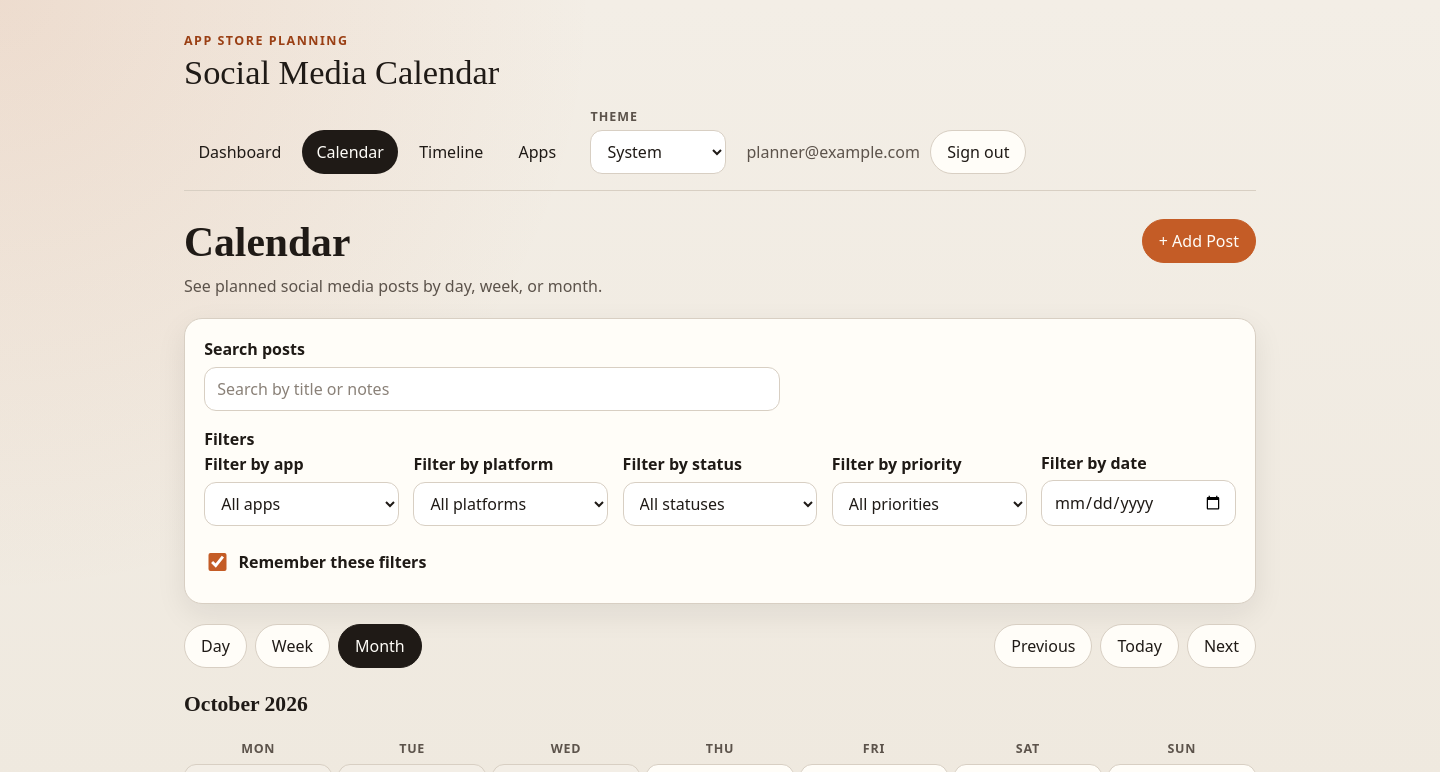
Test: B-004 add and edit post › opens the Add Post form from the Calendar page
Click the button "+ Add Post" at (1199, 242), box [1142,220,1256,264]
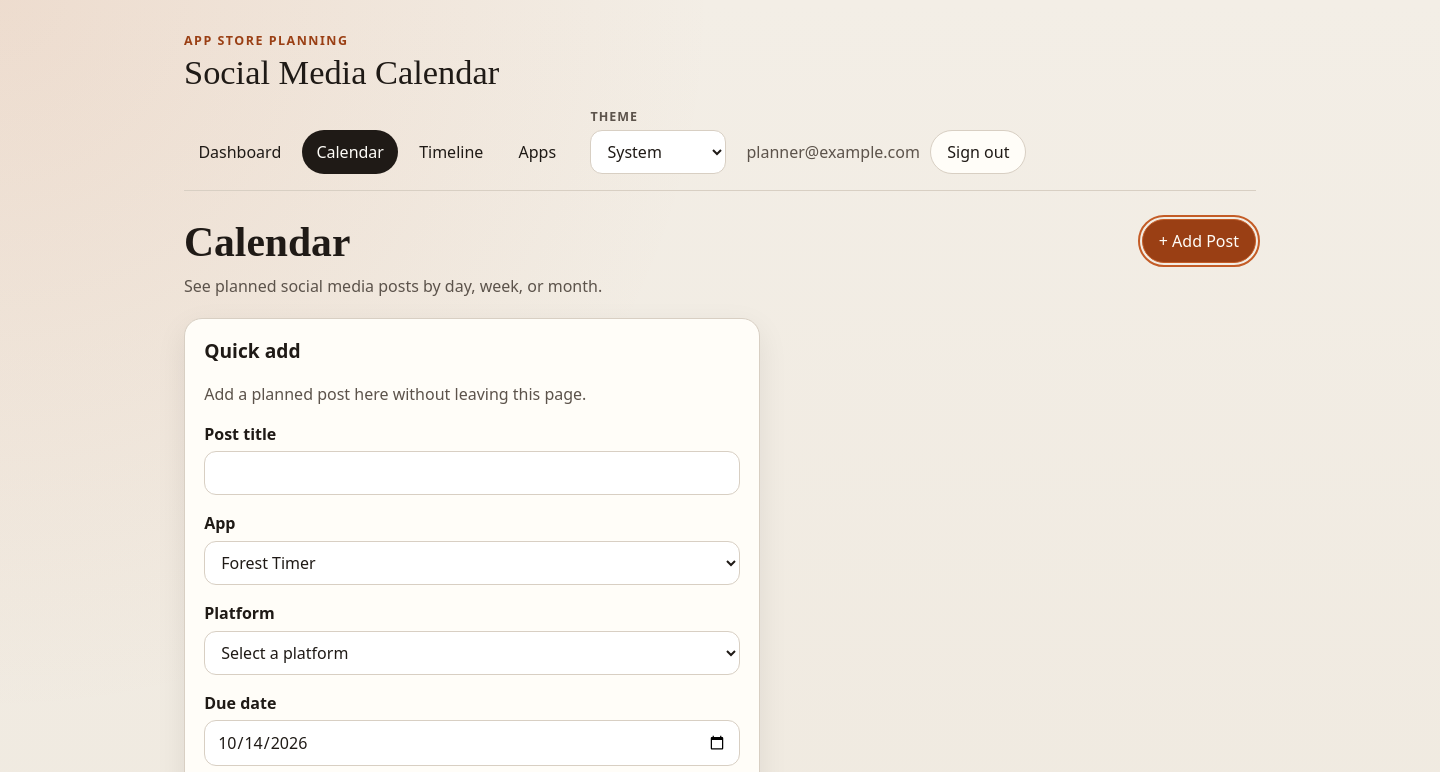
Result: the heading "Quick add" is shown at [204,337,301,364]
Result: the field labelled "Post title" is shown at [204,452,740,496]
Result: the dropdown labelled "App" is shown at [204,541,740,585]
